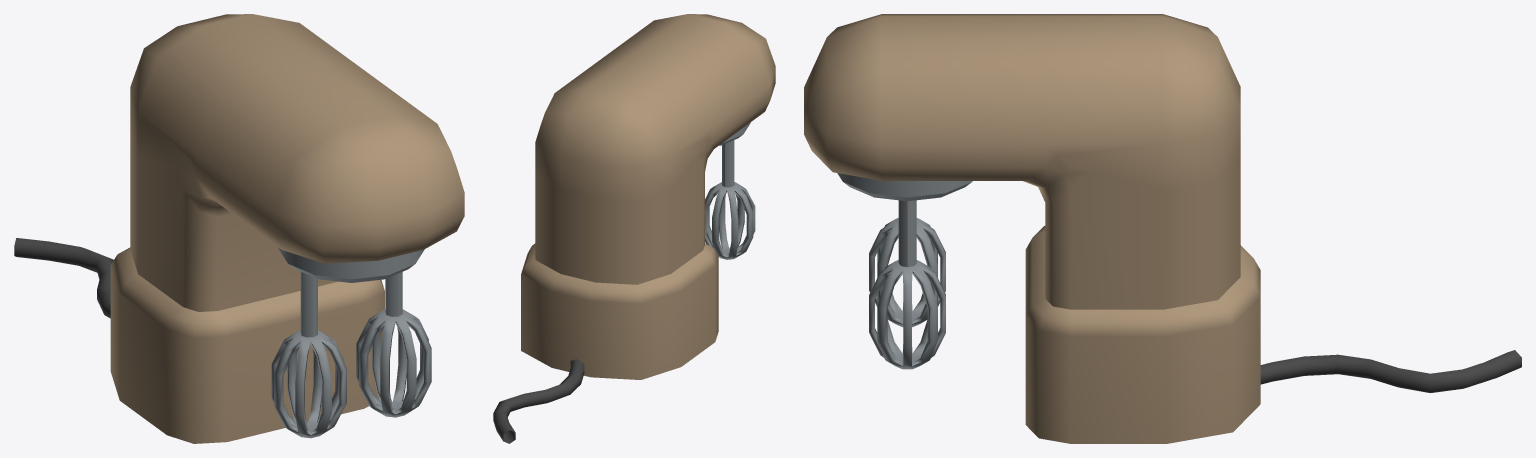
The model's file is SM_mixer.fbx.
The picture shows the model from 3 angles, left to right: view 1: azimuth 30°, elevation 25°; view 2: azimuth 150°, elevation 25°; view 3: azimuth 270°, elevation 25°; orthographic projection. The views are drawn at different scales.
Visible parts, largest first — view 1: MixerBox, Venchik1, Venchik2; view 2: MixerBox, Venchik1; view 3: MixerBox, Venchik2, Venchik1.
Part boxes in pixels (left/top/right/bottom): MixerBox: left=14, top=14, right=464, bottom=443; Venchik1: left=271, top=272, right=346, bottom=438; Venchik2: left=356, top=272, right=431, bottom=417; MixerBox: left=493, top=14, right=775, bottom=443; Venchik1: left=705, top=140, right=755, bottom=259; MixerBox: left=804, top=14, right=1521, bottom=443; Venchik2: left=869, top=200, right=945, bottom=369; Venchik1: left=869, top=218, right=945, bottom=327.
Size of the model in its own units: 48.97 by 77.98 by 140.
